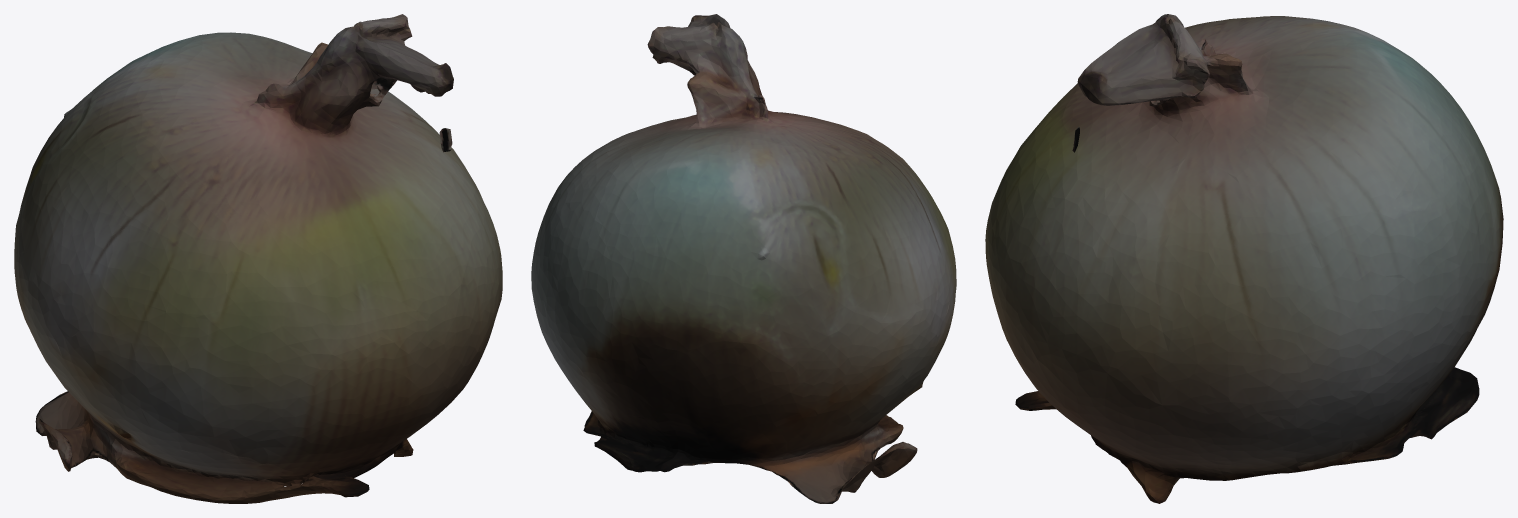
File: cebolla.glb
The picture shows the model from 3 angles, left to right: view 1: azimuth 30°, elevation 25°; view 2: azimuth 150°, elevation 25°; view 3: azimuth 270°, elevation 25°; orthographic projection. The views are drawn at different scales.
Parts seen in each view (by area): view 1: world.004; view 2: world.004; view 3: world.004.
Boxes of the visible parts, bbox=[...] form: world.004: bbox=[14, 14, 502, 503]; world.004: bbox=[531, 14, 956, 503]; world.004: bbox=[985, 14, 1503, 503].
Bounding box in the file's own units: 0.5584 × 0.5545 × 0.5613.
1 material, 1 textured.
